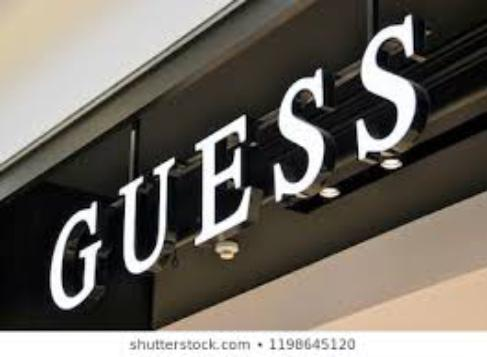GUESS: (38, 13, 428, 313)
